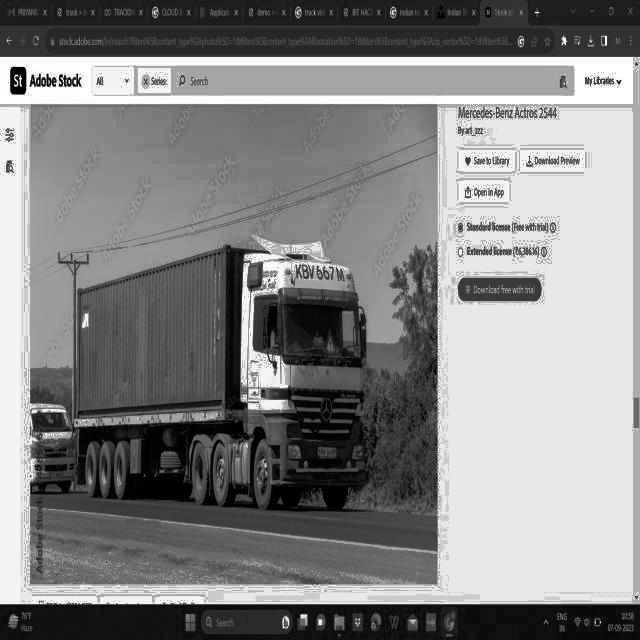HCV: (67, 232, 387, 534)
